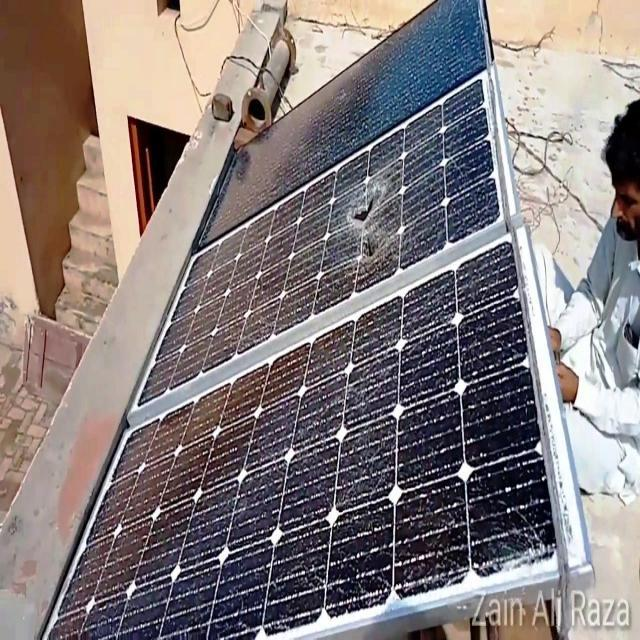faulty: (44, 235, 564, 637), (128, 74, 514, 406)
